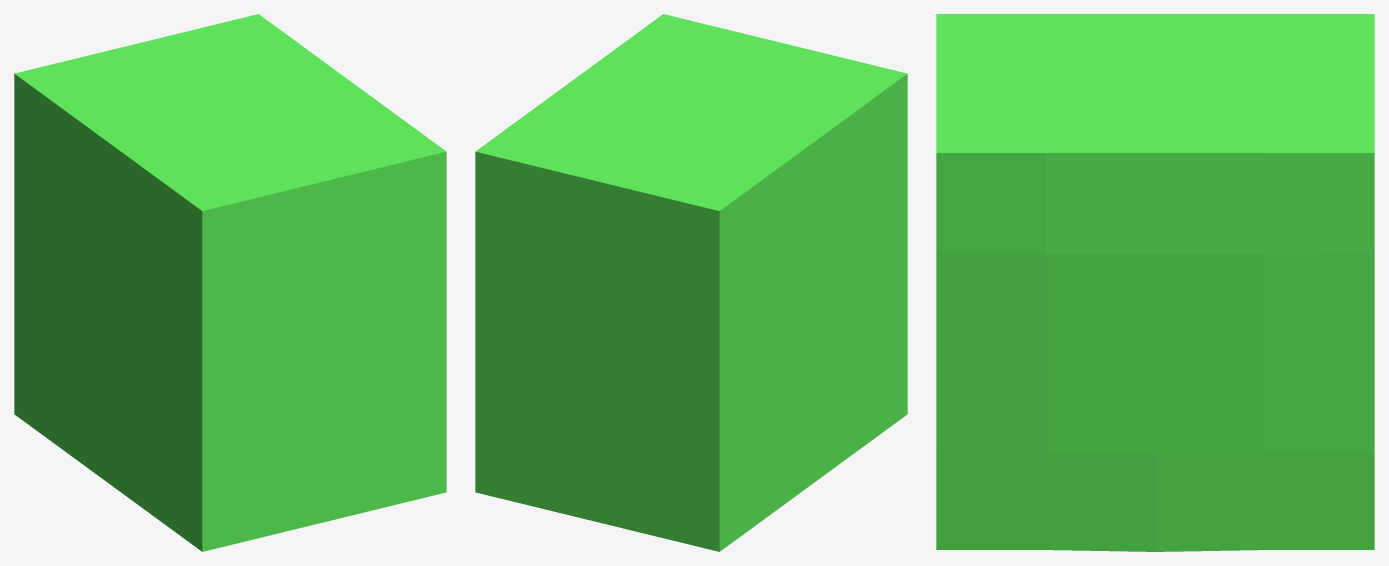
The model's file is Tiles3D_Sol_bord_-x.fbx.
The picture shows the model from 3 angles, left to right: view 1: azimuth 30°, elevation 25°; view 2: azimuth 150°, elevation 25°; view 3: azimuth 270°, elevation 25°; orthographic projection. The views are drawn at different scales.
Parts seen in each view (by area): view 1: Tiles3D_sol_bord_x; view 2: Tiles3D_sol_bord_x; view 3: Tiles3D_sol_bord_x.
Boxes of the visible parts, x1,y1,x2,y2 form: Tiles3D_sol_bord_x: [14, 14, 446, 551]; Tiles3D_sol_bord_x: [475, 14, 907, 551]; Tiles3D_sol_bord_x: [936, 14, 1374, 551].
Size of the model in its own units: 76.06 by 100 by 100.
Materials: 1 (1 with a texture image).
